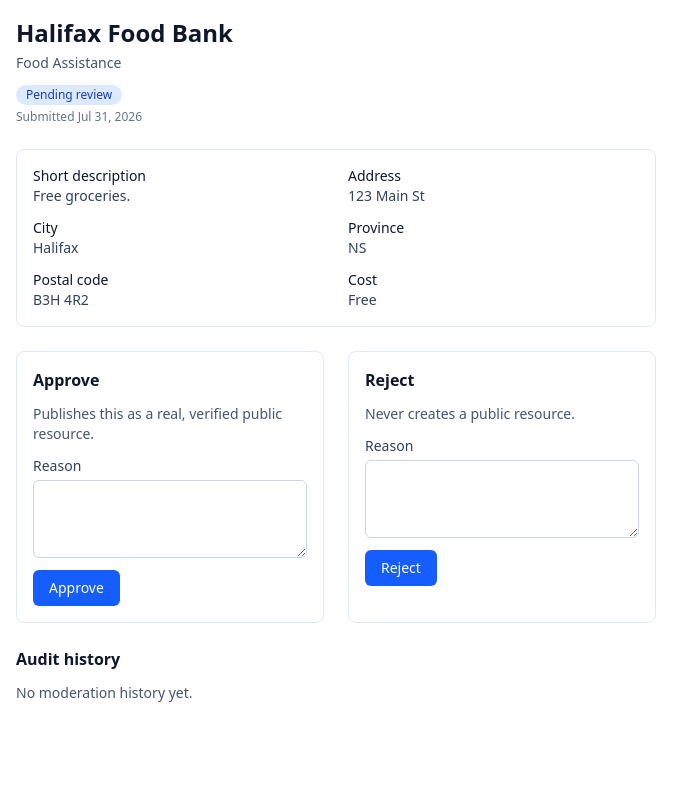
Scenario: ResourceSubmissionReviewDetail › shows a specific message when self-review is blocked
Check: the heading "Halifax Food Bank" is shown, box [16, 16, 233, 49]
In the 2nd text box labelled "Reason": (170, 519) [33, 480, 307, 558], type "Approving my own submission."
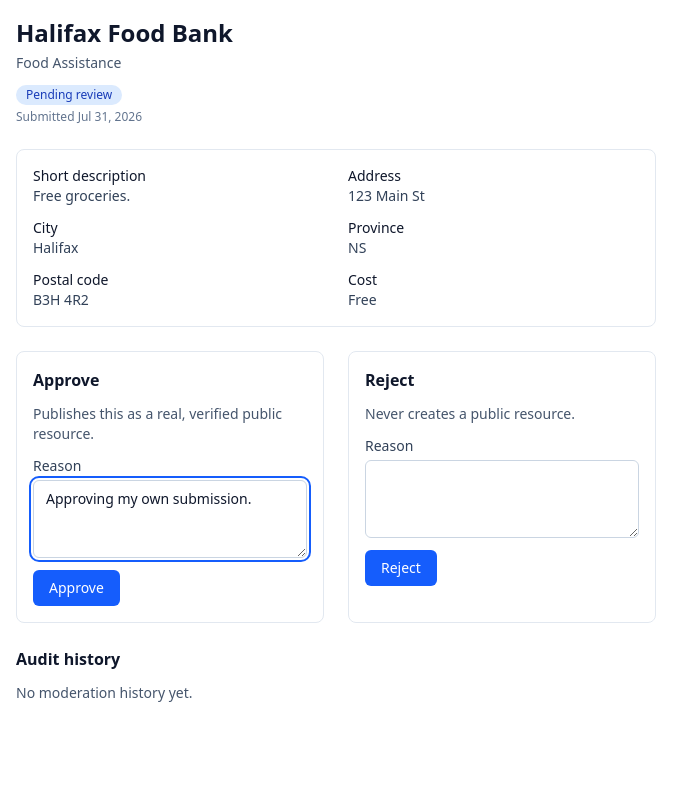
Click the button "Approve": (76, 588) [33, 570, 120, 606]
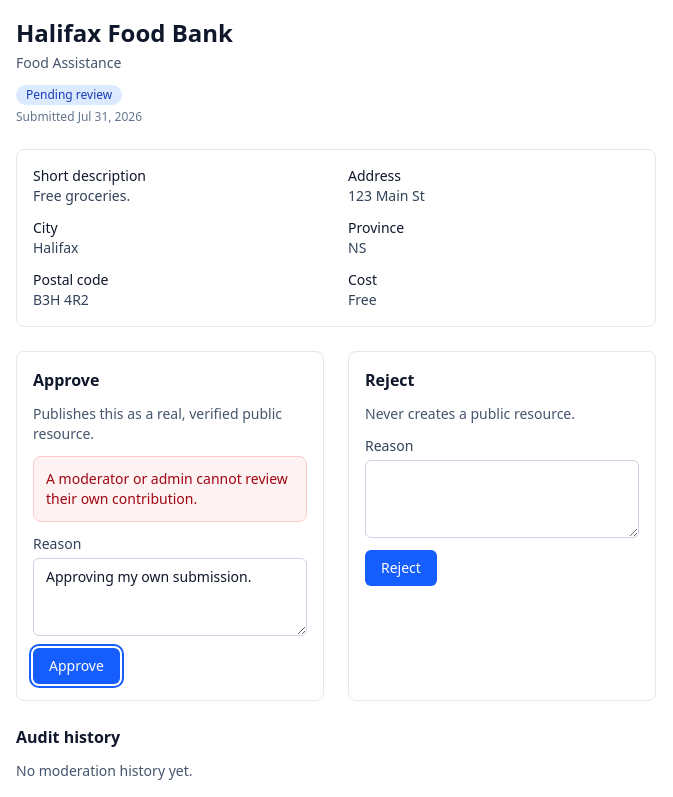
Check: the message shows "cannot review their own", box [46, 469, 288, 508]
